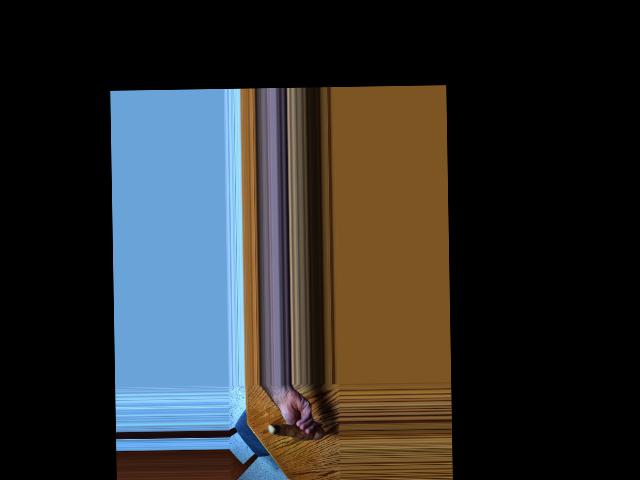sweet_potato: (269, 417, 325, 443)
